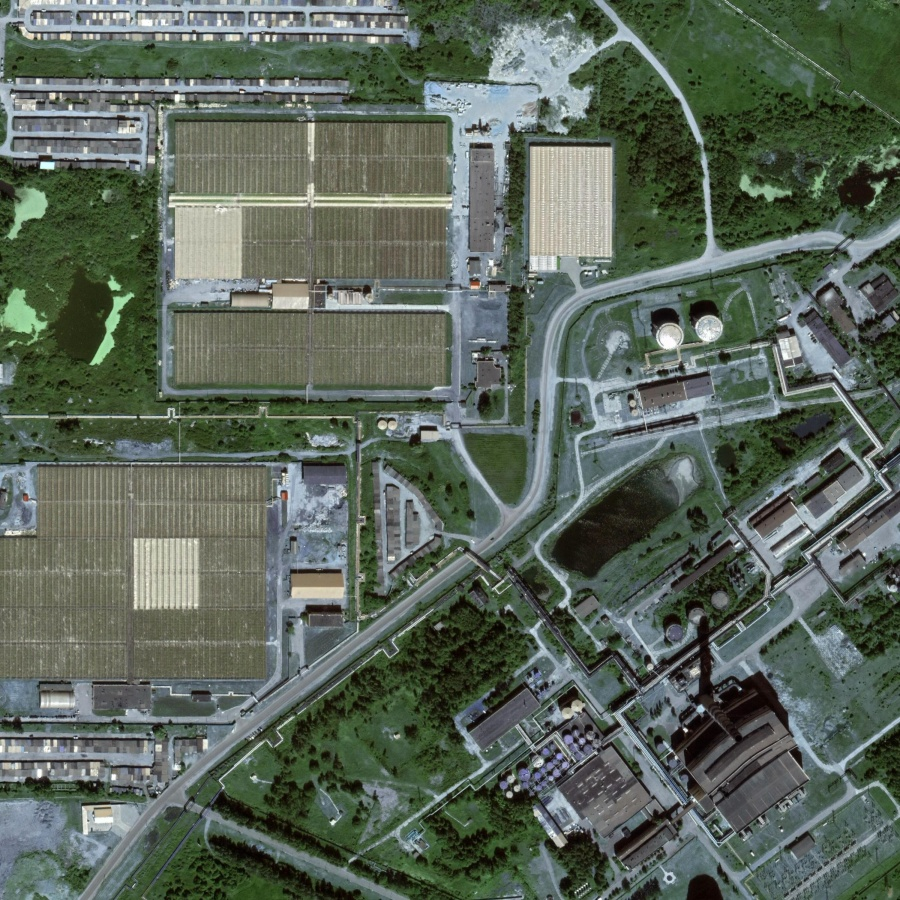PowerPlant: (631, 534, 783, 780)
